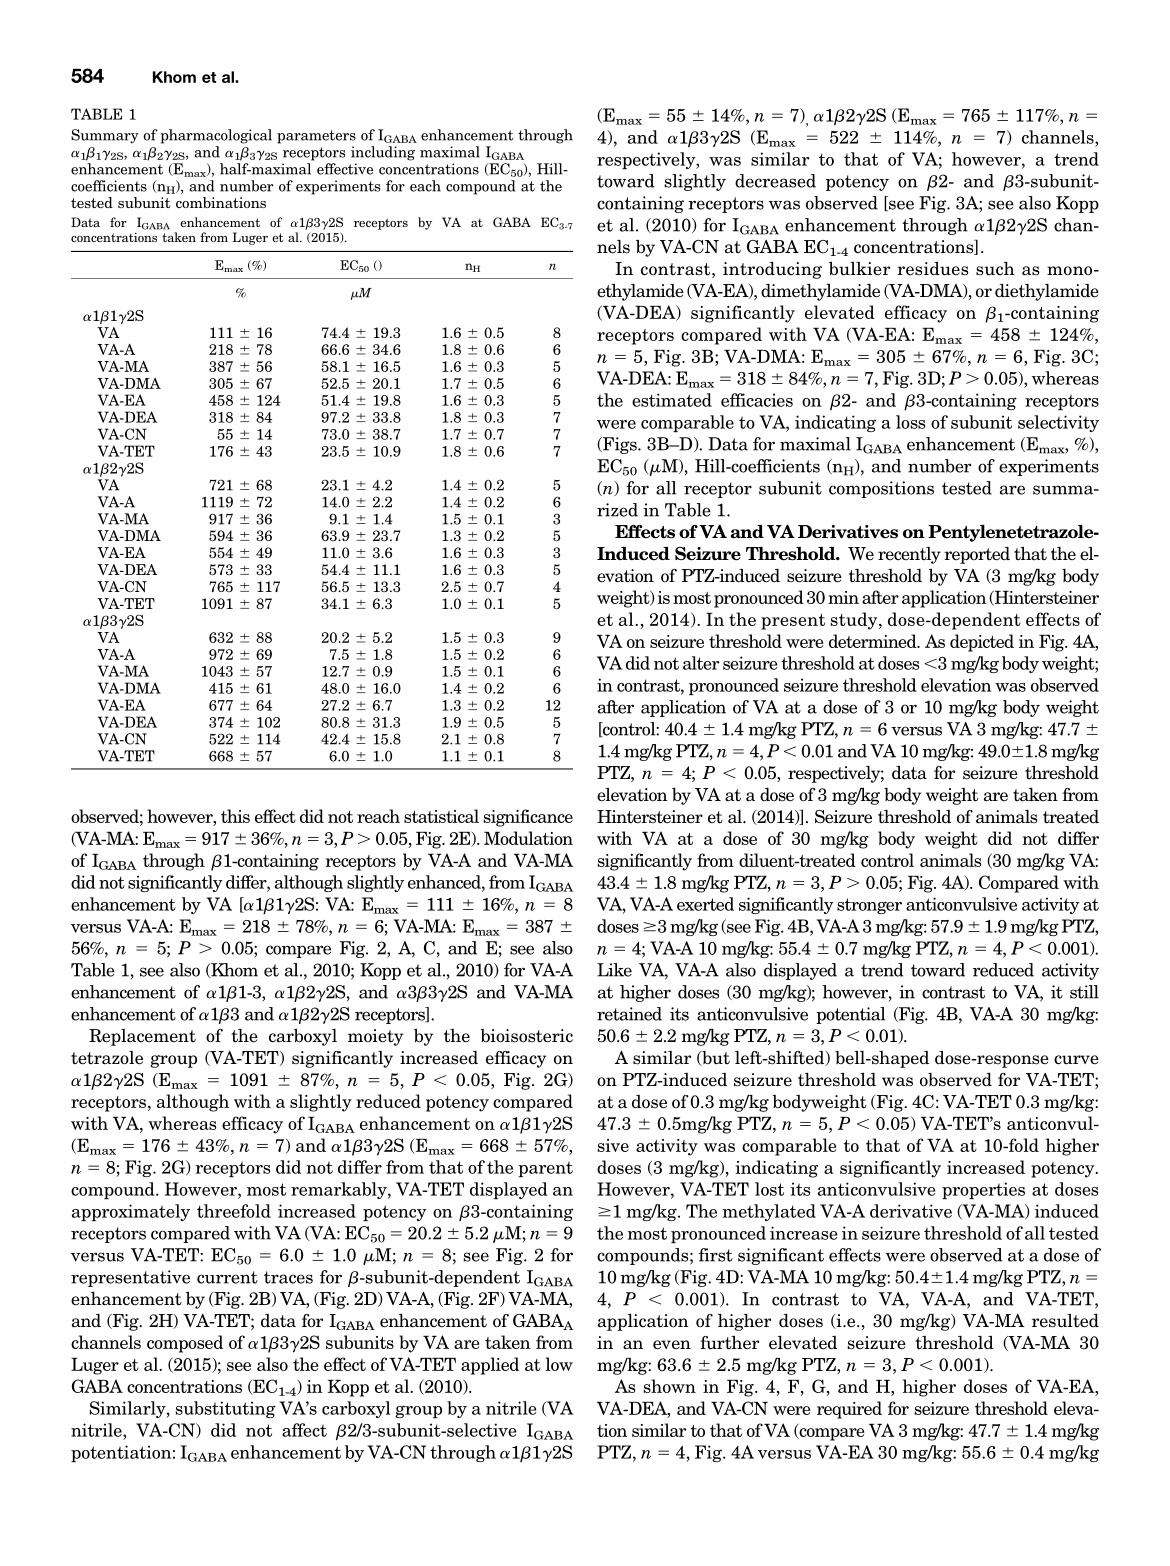partial_lined: (70, 250, 574, 773)
